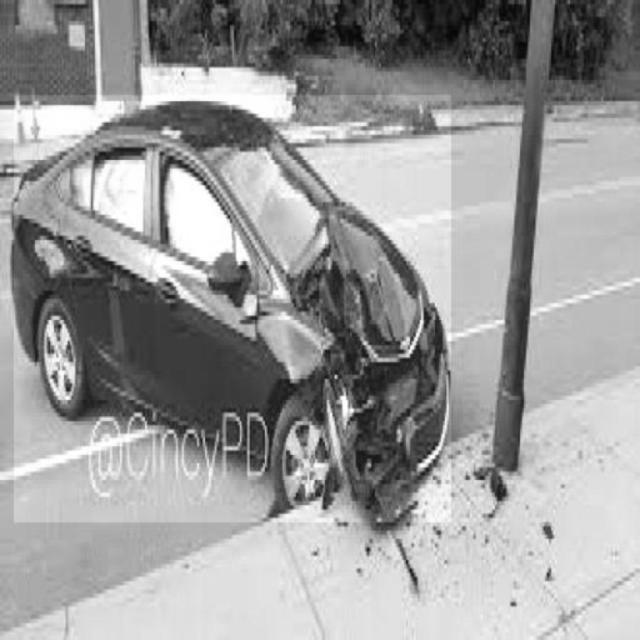vehicle: (14, 95, 452, 523)
